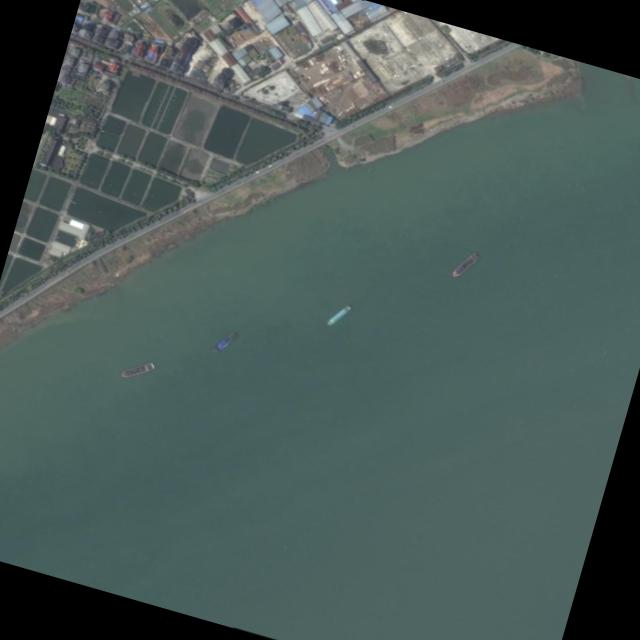ship: (450, 251, 481, 280), (210, 331, 239, 354), (326, 304, 351, 326), (118, 363, 153, 378)
